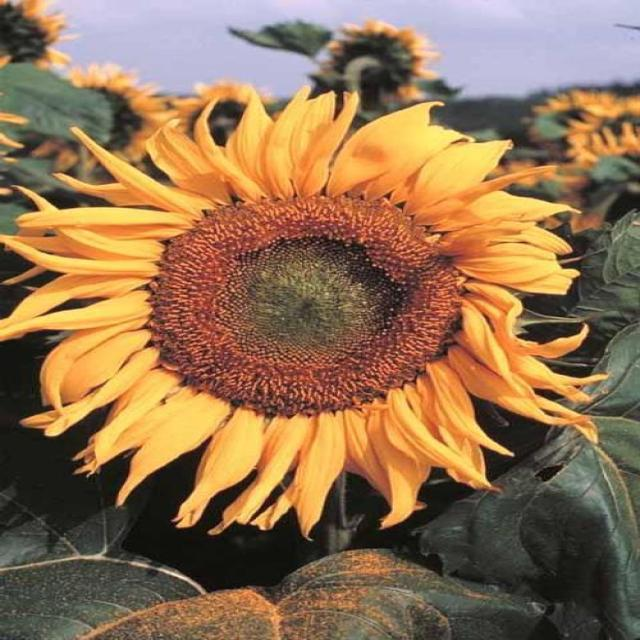sunflower: (13, 78, 605, 553)
